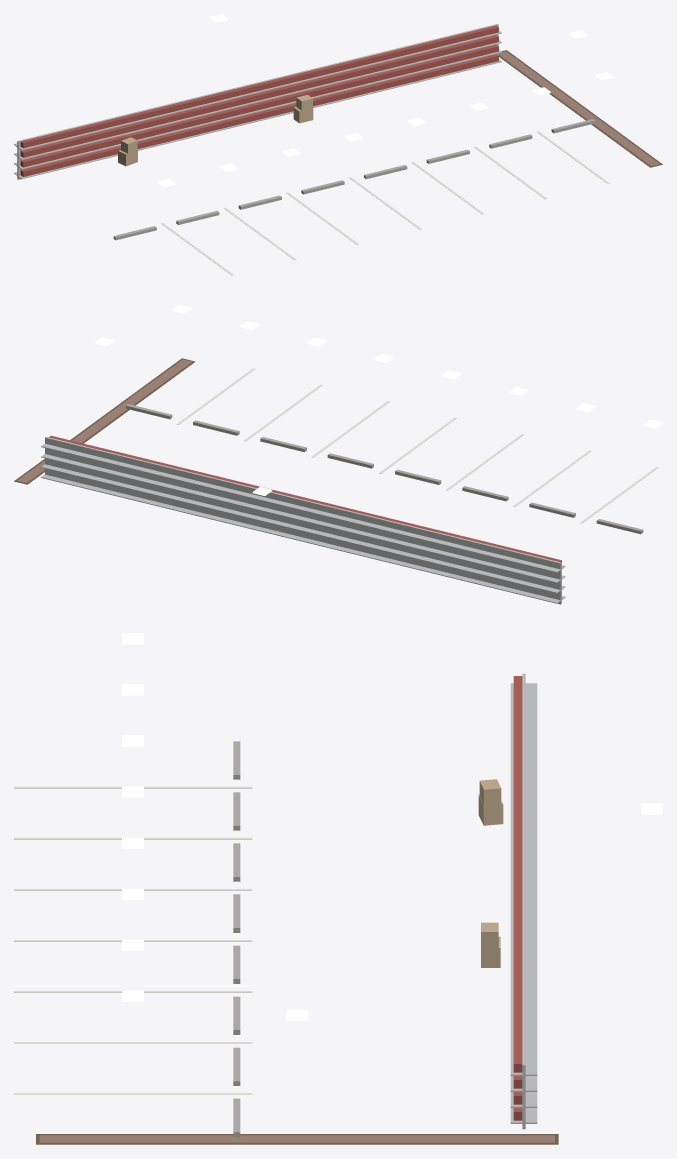
Rendered from fine-s0.glb.
3 renders of one model, top to bottom at view 1: azimuth 30°, elevation 25°; view 2: azimuth 150°, elevation 25°; view 3: azimuth 270°, elevation 25°, orthographic. The views are drawn at different scales.
Parts seen in each view (by area): view 1: soft-s0, shelving.000, shelving.004, shelving.006, shelving.011, shelving.001, shelving.010, shelving.012, shelving.008, shelving.005, shelving.009, shelving.003 (+4 smaller); view 2: soft-s0, shelving.000, shelving.001, shelving.005, shelving.003, shelving.010, shelving.012, shelving.004, shelving.006, shelving.008, shelving.002, shelving.007 (+2 smaller); view 3: soft-s0, shelving.012, cardboard-box.000, shelving.003, shelving.011, shelving.001, shelving.008, shelving.000, crate.000, shelving.010, shelving.004, shelving.005 (+4 smaller).
Part boxes in pixels (<box>): soft-s0: <box>113,50,662,275</box>; shelving.000: <box>14,131,62,179</box>; shelving.004: <box>164,95,209,142</box>; shelving.006: <box>238,77,282,124</box>; shelving.011: <box>421,32,465,79</box>; shelving.001: <box>54,122,99,169</box>; shelving.010: <box>385,41,428,89</box>; shelving.012: <box>457,24,501,70</box>; shelving.008: <box>312,59,355,106</box>; shelving.005: <box>203,86,245,134</box>; shelving.009: <box>348,50,391,98</box>; shelving.003: <box>127,105,172,150</box>; soft-s0: <box>14,358,658,534</box>; shelving.000: <box>513,551,565,604</box>; shelving.001: <box>473,541,522,593</box>; shelving.005: <box>316,503,364,554</box>; shelving.003: <box>395,522,443,573</box>; shelving.010: <box>120,455,168,506</box>; shelving.012: <box>41,435,89,487</box>; shelving.004: <box>355,512,404,563</box>; shelving.006: <box>277,493,325,544</box>; shelving.008: <box>198,474,247,526</box>; shelving.002: <box>434,531,482,583</box>; shelving.007: <box>237,483,286,535</box>; soft-s0: <box>14,741,558,1144</box>; shelving.012: <box>510,1032,537,1129</box>; cardboard-box.000: <box>478,779,503,825</box>; shelving.003: <box>510,763,537,806</box>; shelving.011: <box>510,1002,537,1044</box>; shelving.001: <box>510,705,537,746</box>; shelving.008: <box>510,914,537,955</box>; shelving.000: <box>510,673,537,716</box>; crate.000: <box>481,922,500,967</box>; shelving.010: <box>510,974,537,1011</box>; shelving.004: <box>510,795,537,835</box>; shelving.005: <box>510,825,537,865</box>.
Bounding box in the file's own units: 21.83 × 3.14 × 14.71.
